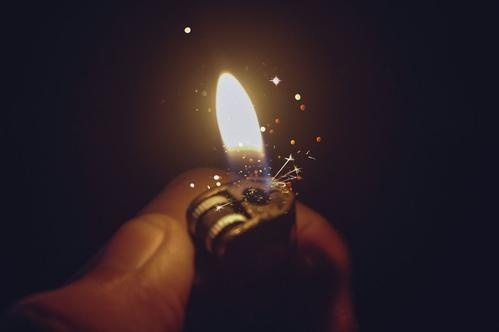fire: (213, 69, 265, 167)
